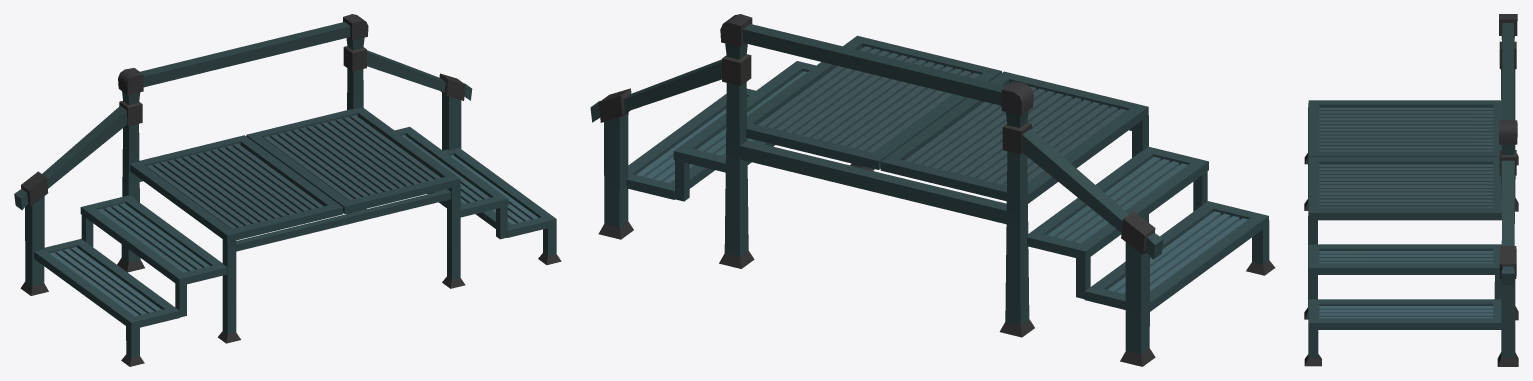
Rendered from Stairs_1_D.fbx.
3 views of the same model, side by side, from view 1: azimuth 30°, elevation 25°; view 2: azimuth 150°, elevation 25°; view 3: azimuth 270°, elevation 25° (orthographic). The views are drawn at different scales.
Parts seen in each view (by area): view 1: Stairs_1_D; view 2: Stairs_1_D; view 3: Stairs_1_D.
Part boxes in pixels (x1,y1,x2,y2): Stairs_1_D: [14, 14, 561, 366]; Stairs_1_D: [590, 14, 1275, 366]; Stairs_1_D: [1304, 14, 1518, 366].
Bounding box in the file's own units: 307 × 126 × 127.
